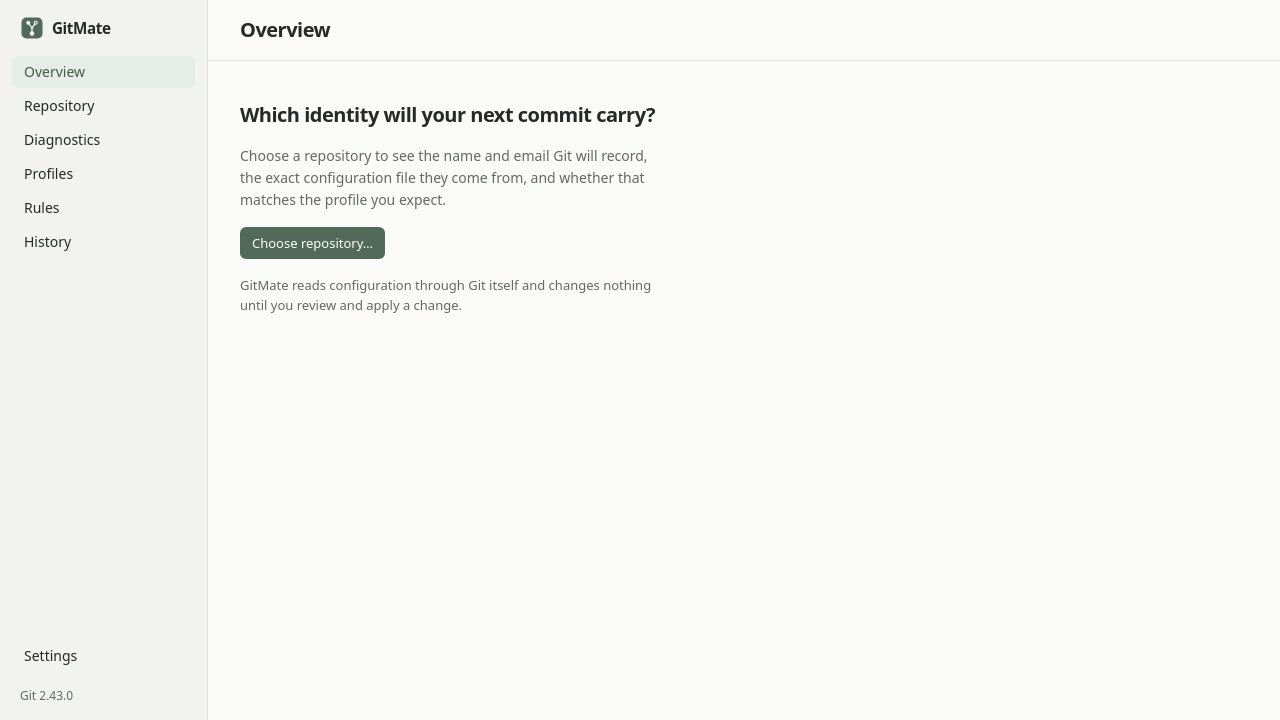
App › lists managed and hand-written rules separately
This screenshot has width=1280, height=720.
Click the button "Rules" at (104, 208), box [12, 192, 195, 224]
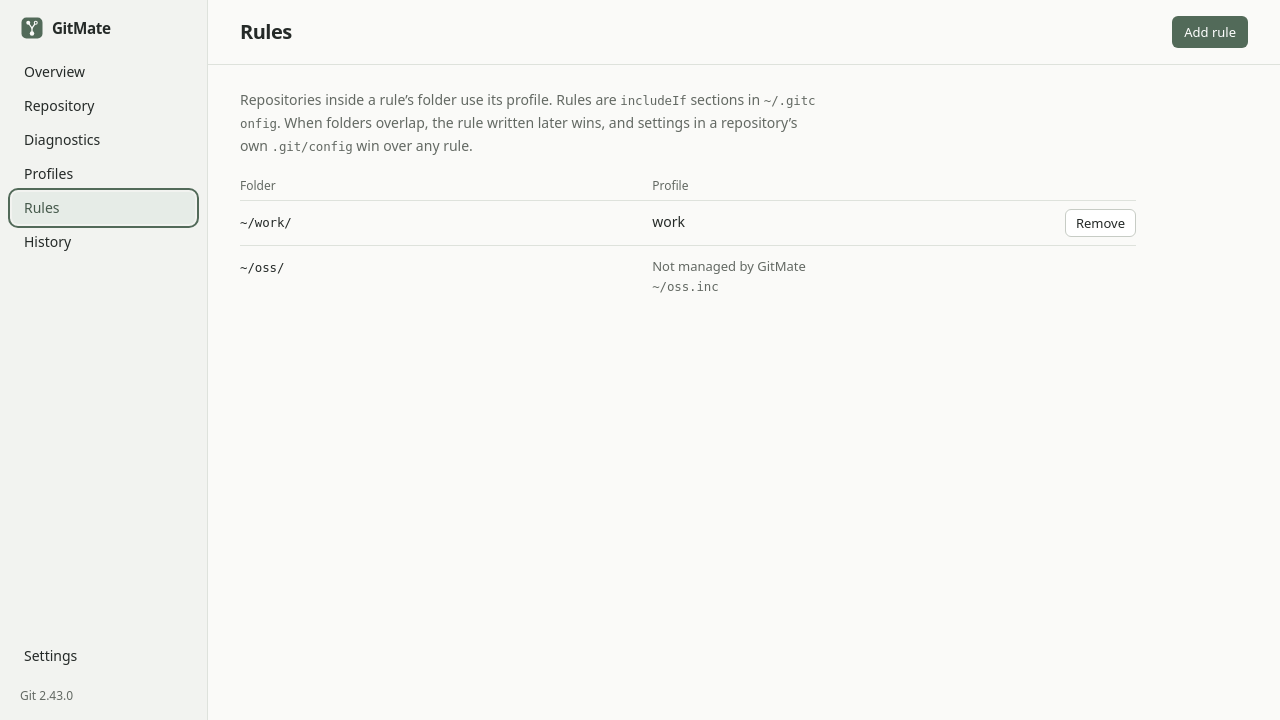
expect the heading "Rules" is shown: met, box [240, 18, 292, 46]
expect the text "~/work/" is shown: met, box [240, 215, 292, 230]
expect the text "Not managed by GitMate" is shown: met, box [652, 257, 806, 275]
